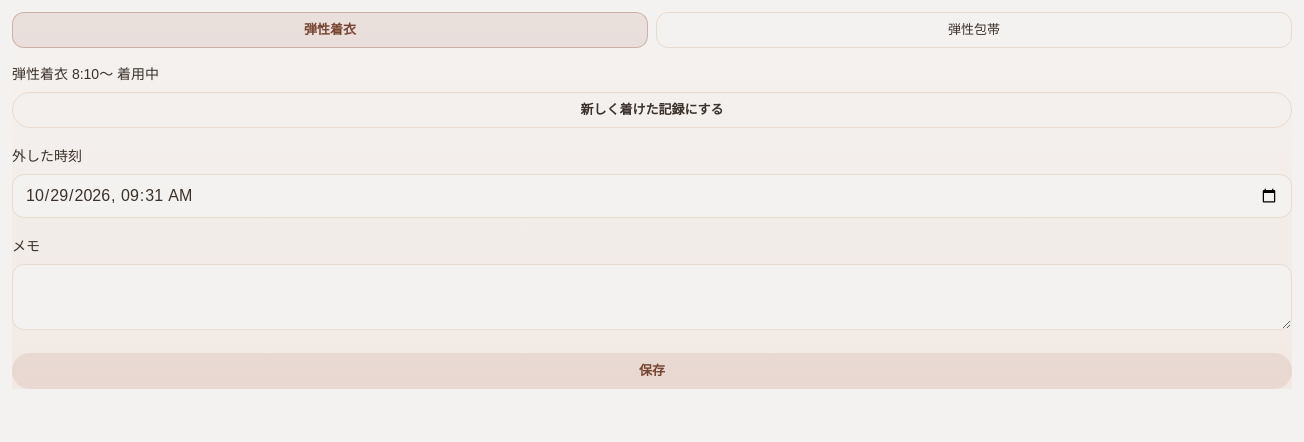
Test: CompressionForm › refuses a take-off before the put-on of the open record
Expected: the text "弾性着衣 8:10〜 着用中" is shown, 12,66 -> 159,82
Expected: the button "保存" is enabled, 12,353 -> 1292,389
Replace the text in the field labelled "外した時刻" with "2026-10-29T07:00": {"x": 652, "y": 196} 12,174 -> 1292,218
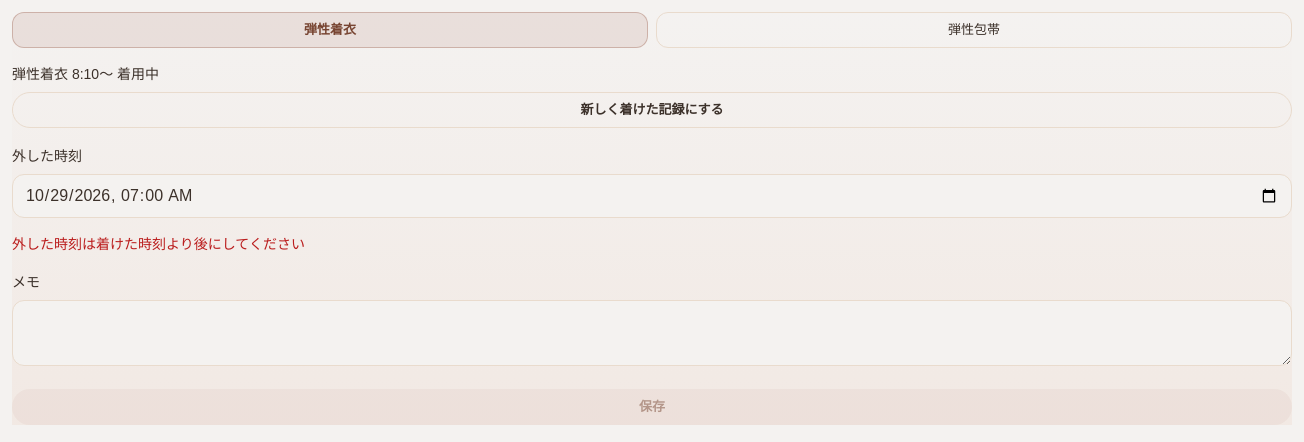
Expected: the text "外した時刻は着けた時刻より後にしてください" is shown, 12,236 -> 305,252
Expected: the button "保存" is disabled, 12,389 -> 1292,425
